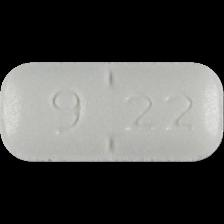54868-5064: (0, 0, 224, 224)
